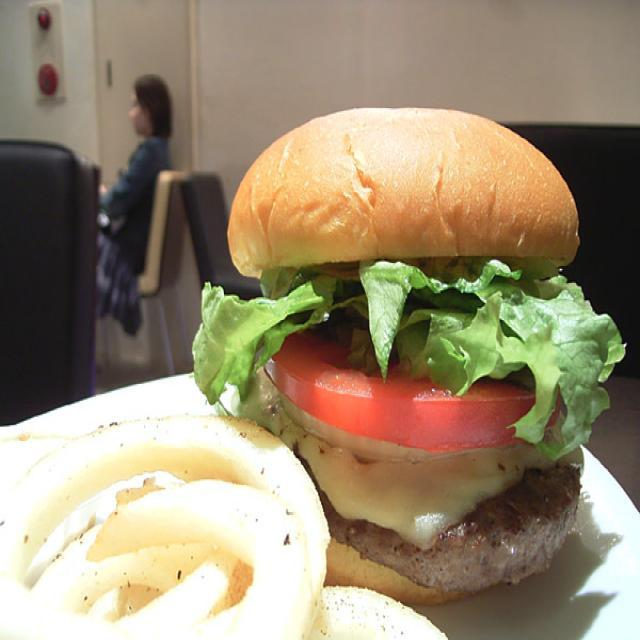Hamburger: (196, 92, 599, 600)
